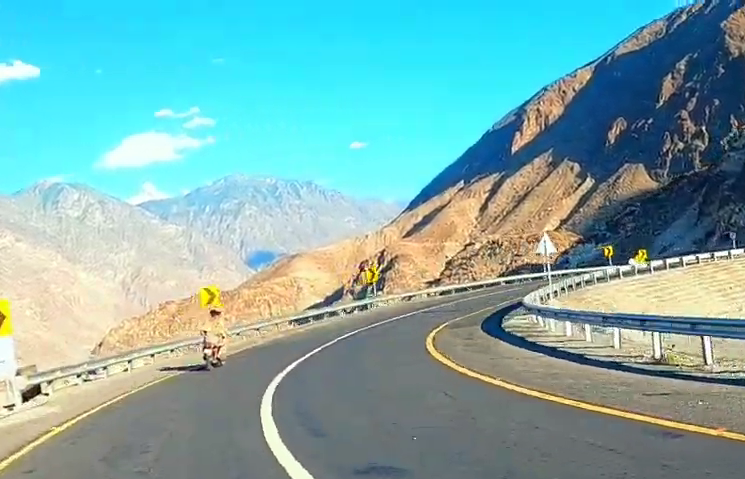stright: (104, 252, 589, 470)
